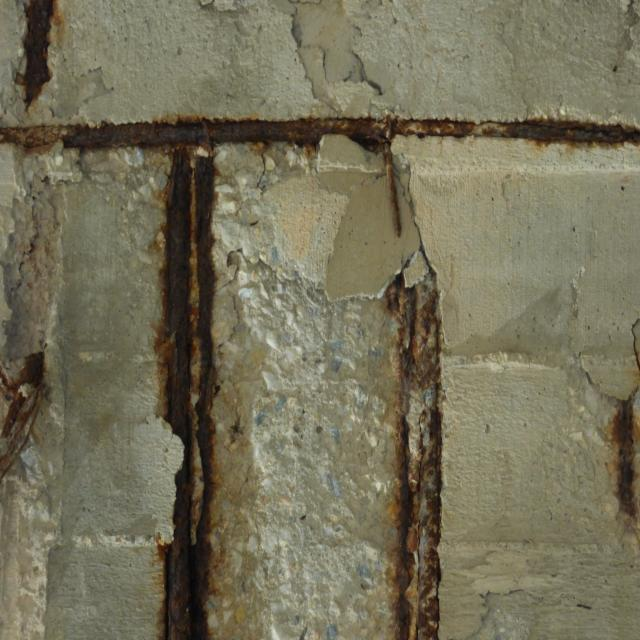corrosion: (117, 105, 262, 640), (0, 100, 640, 164), (0, 0, 83, 493), (372, 150, 448, 640), (589, 306, 640, 580)
